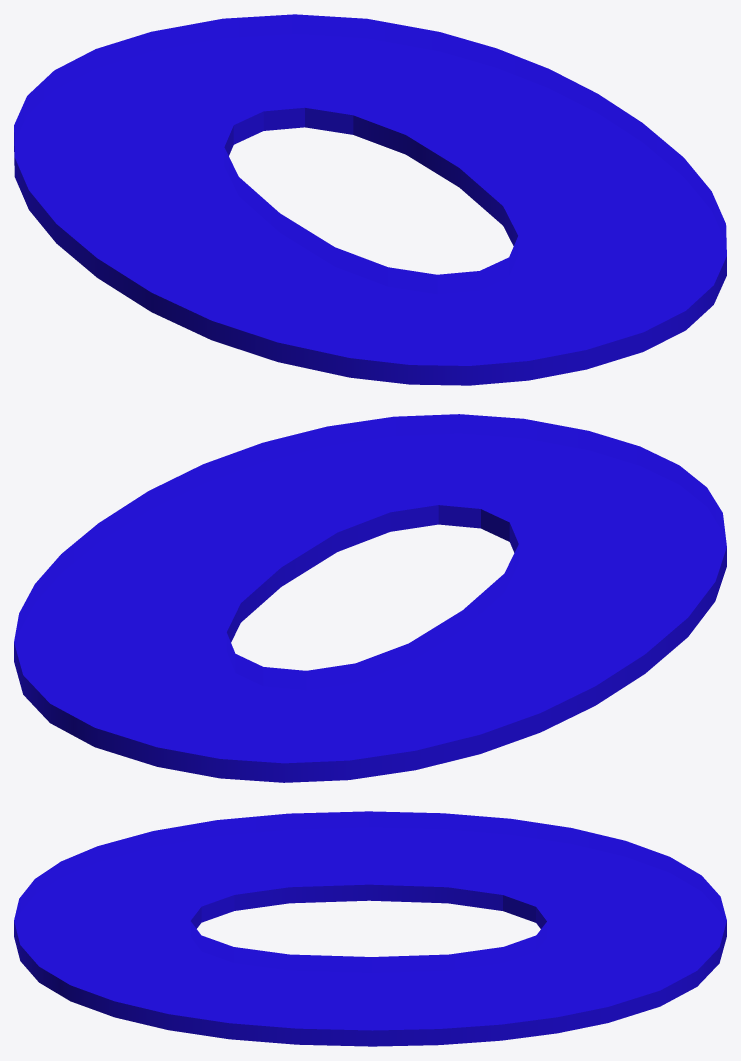
File: original-99.obj
3 views of the same model, one above another, from view 1: azimuth 30°, elevation 25°; view 2: azimuth 150°, elevation 25°; view 3: azimuth 270°, elevation 25° (orthographic). The views are drawn at different scales.
Visible parts, largest first — view 1: mesh253/mesh253-geometry#mesh253-geometry; view 2: mesh253/mesh253-geometry#mesh253-geometry; view 3: mesh253/mesh253-geometry#mesh253-geometry.
Boxes of the visible parts, x1,y1,x2,y2 form: mesh253/mesh253-geometry#mesh253-geometry: (14,14,726,385); mesh253/mesh253-geometry#mesh253-geometry: (14,414,726,782); mesh253/mesh253-geometry#mesh253-geometry: (14,811,726,1046).
Bounding box in the file's own units: 0.0115 × 0.000394 × 0.0158.
